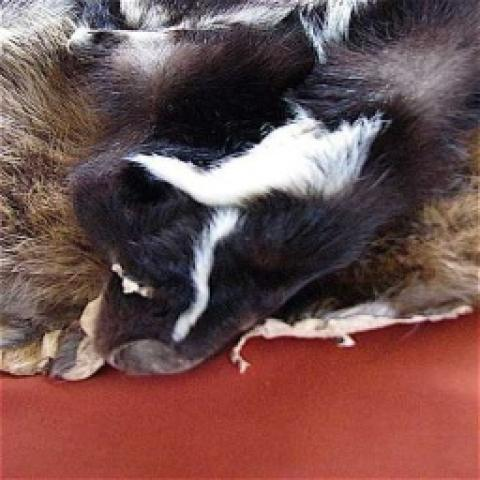small_animal: (64, 17, 478, 377)
